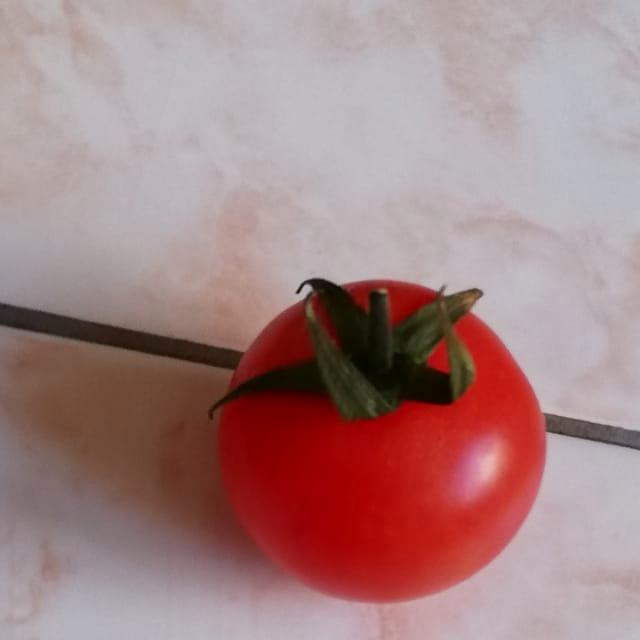tomato: (195, 249, 562, 616)
